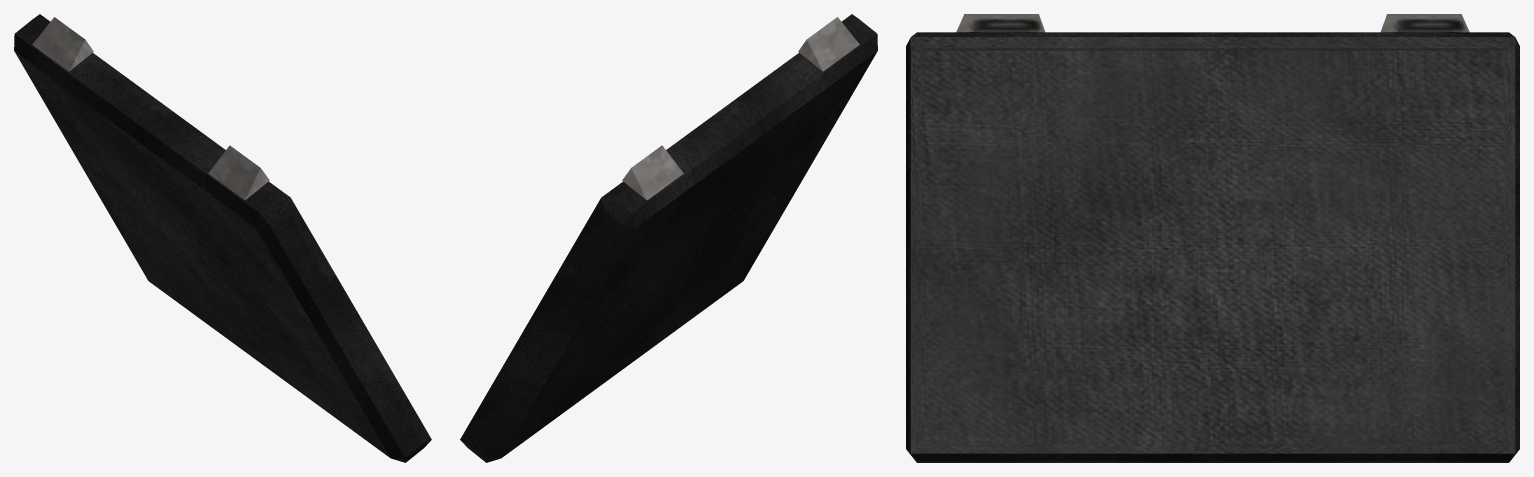
The model's file is suitcase-top.gltf.
3 views of the same model, side by side, from view 1: azimuth 30°, elevation 25°; view 2: azimuth 150°, elevation 25°; view 3: azimuth 270°, elevation 25° (orthographic). The views are drawn at different scales.
Parts seen in each view (by area): view 1: Top; view 2: Top; view 3: Top.
Part boxes in pixels (<box>): Top: <box>14,14,431,462</box>; Top: <box>460,14,877,462</box>; Top: <box>906,14,1519,462</box>.
Bounding box in the file's own units: 0.1894 × 0.3287 × 0.4873.
Materials: 1 (1 with a texture image).
